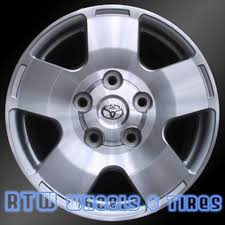m: (119, 126, 143, 150), (130, 91, 154, 114), (82, 126, 105, 150), (70, 90, 91, 115), (99, 68, 124, 89)
